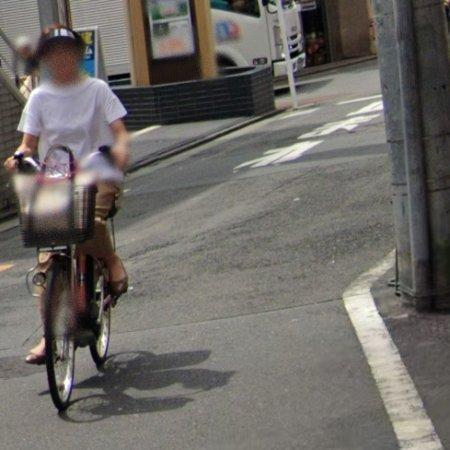bicycles: (14, 145, 113, 410)
